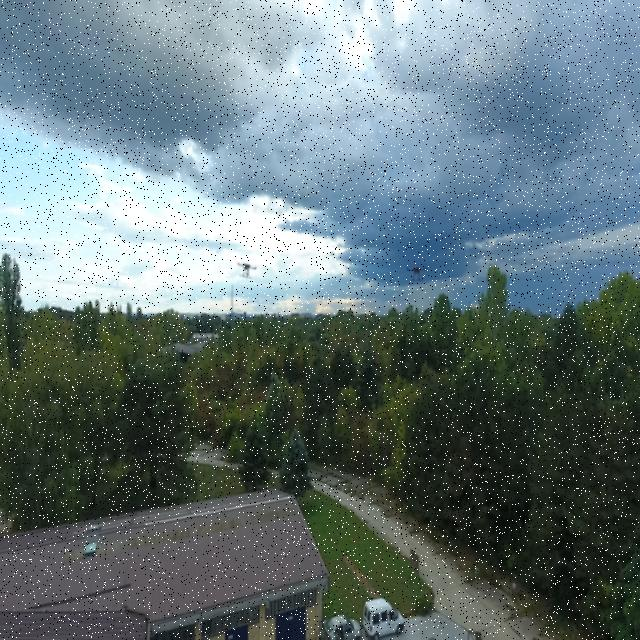UAV: (224, 256, 272, 288), (400, 261, 434, 286)
